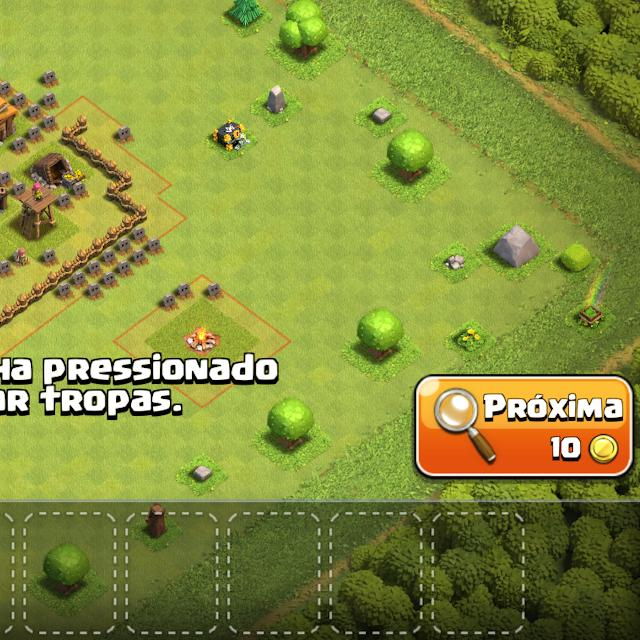Arqueira: (18, 184, 58, 238)
Next: (411, 372, 635, 483)
